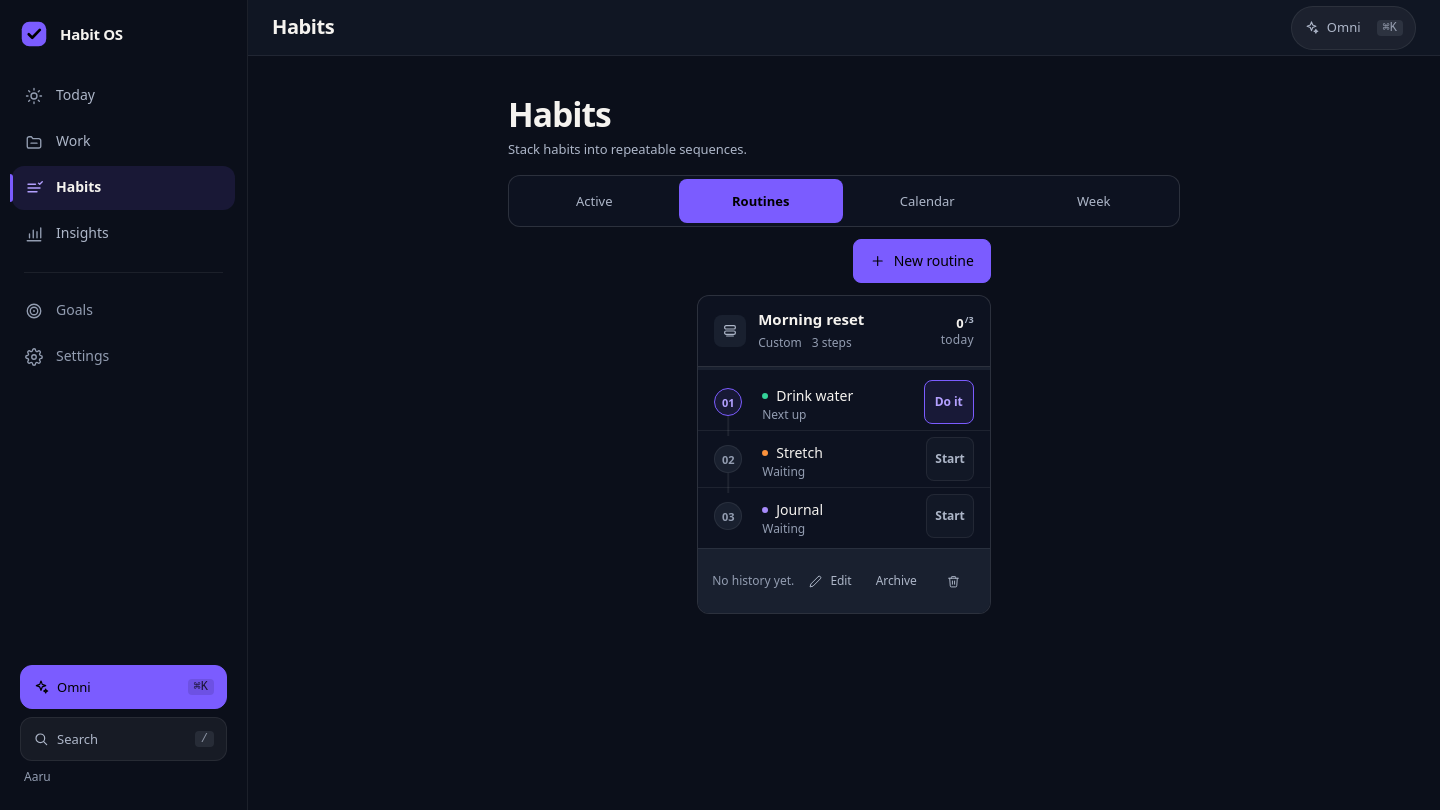
Scenario: Step 4G-2C: Routines focused editorial layout › completing a step toggles aria-pressed (semantic action intact)
Click the button with aria-label "Mark Drink water as complete in Morning reset" at {"x": 949, "y": 402}, box 924,380 -> 974,424
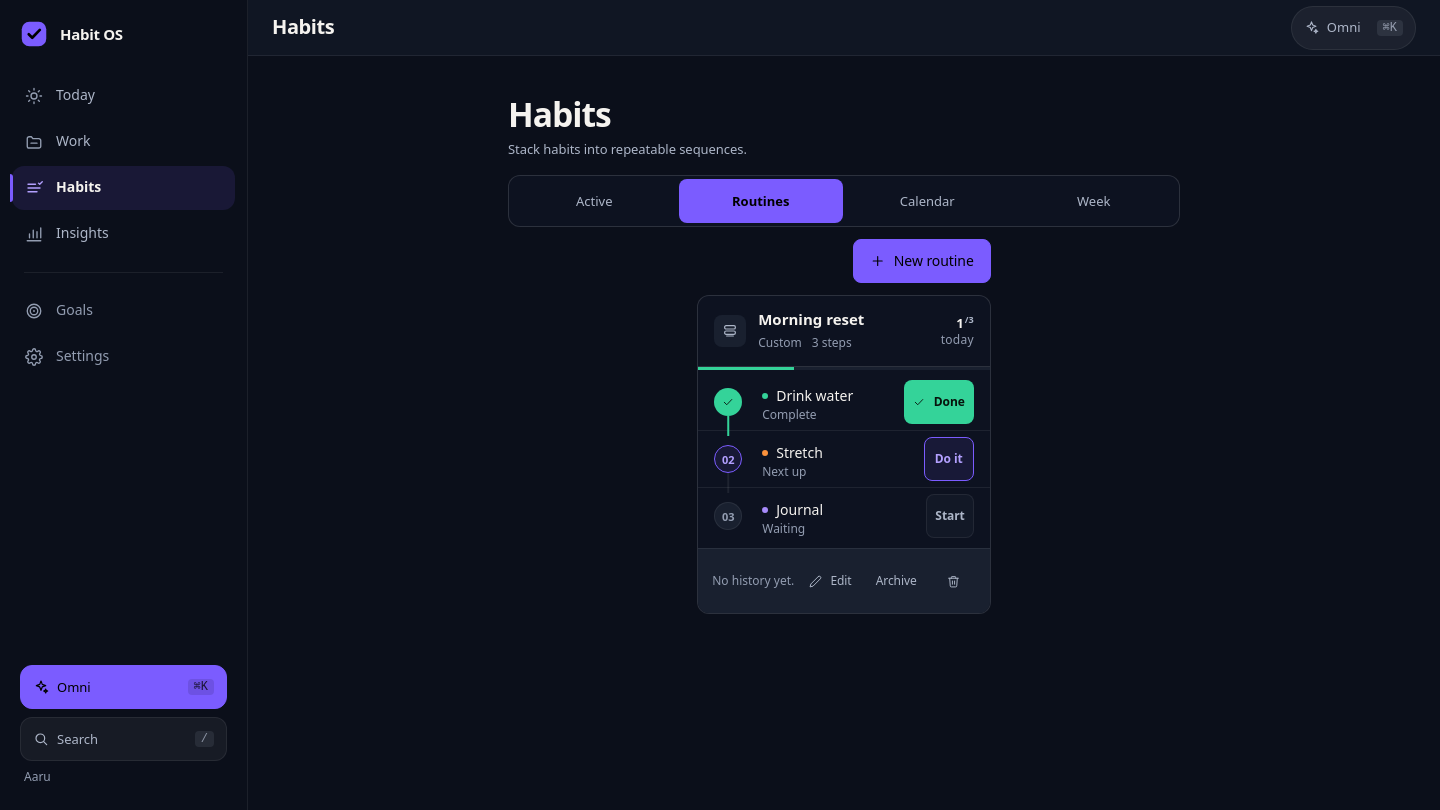
Now the button named "Mark Drink water as complete in Morning reset" is pressed, box 904,380 -> 974,424
Click the button with aria-label "Mark Stretch as complete in Morning reset" at {"x": 949, "y": 459}, box 924,437 -> 974,481
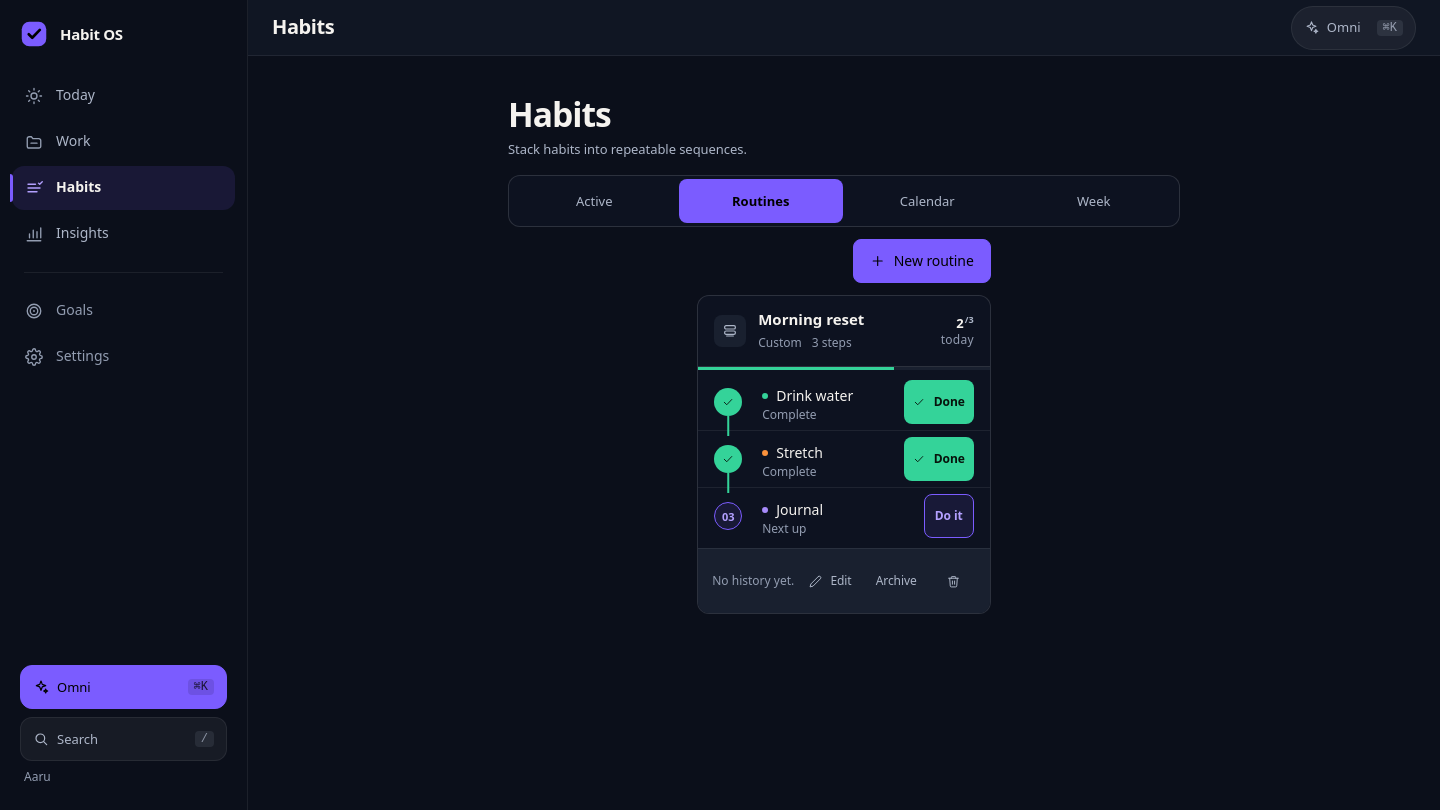
Click the button with aria-label "Mark Journal as complete in Morning reset" at {"x": 949, "y": 516}, box 924,494 -> 974,538
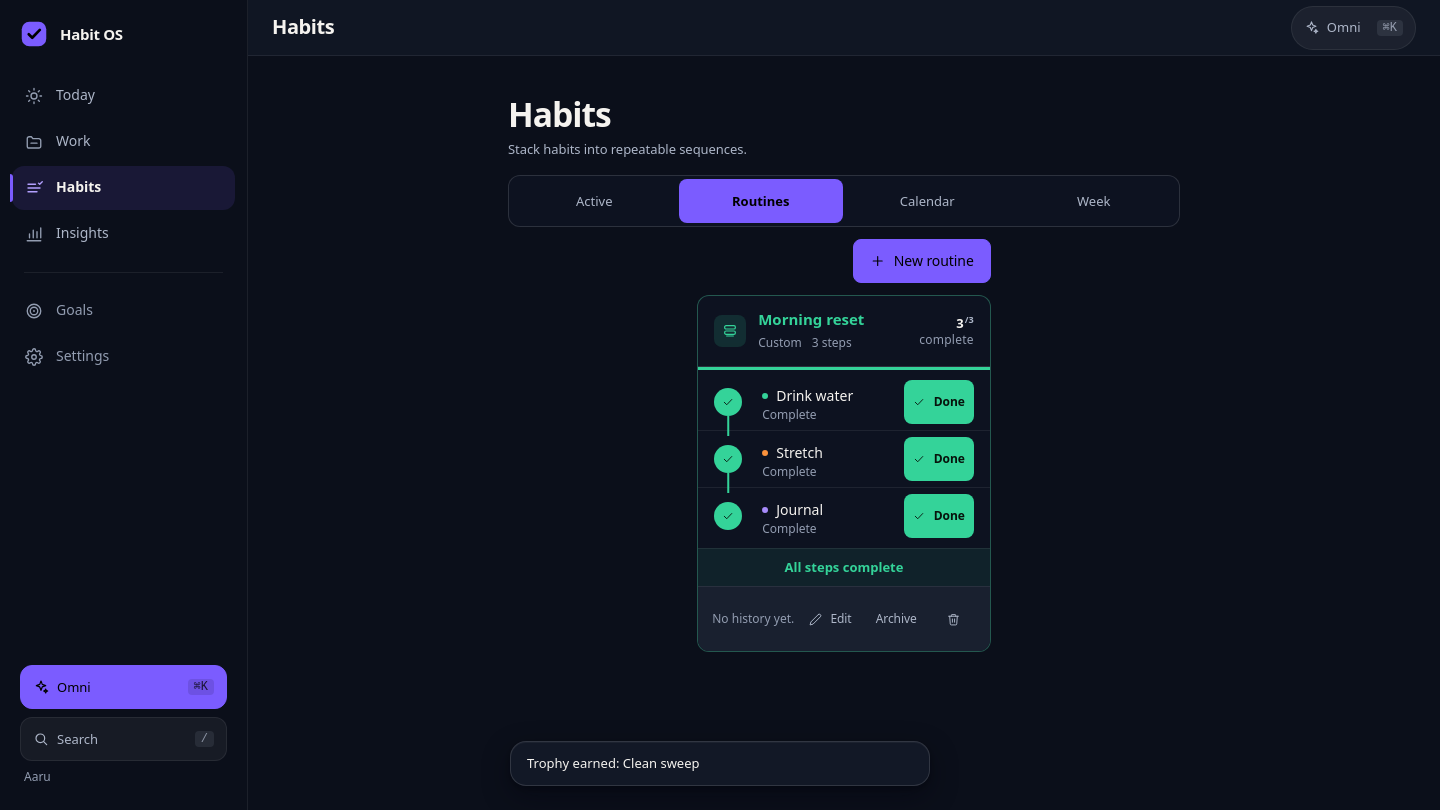
Now the message with class "rt-complete" reads "All steps complete", box 785,558 -> 903,576
